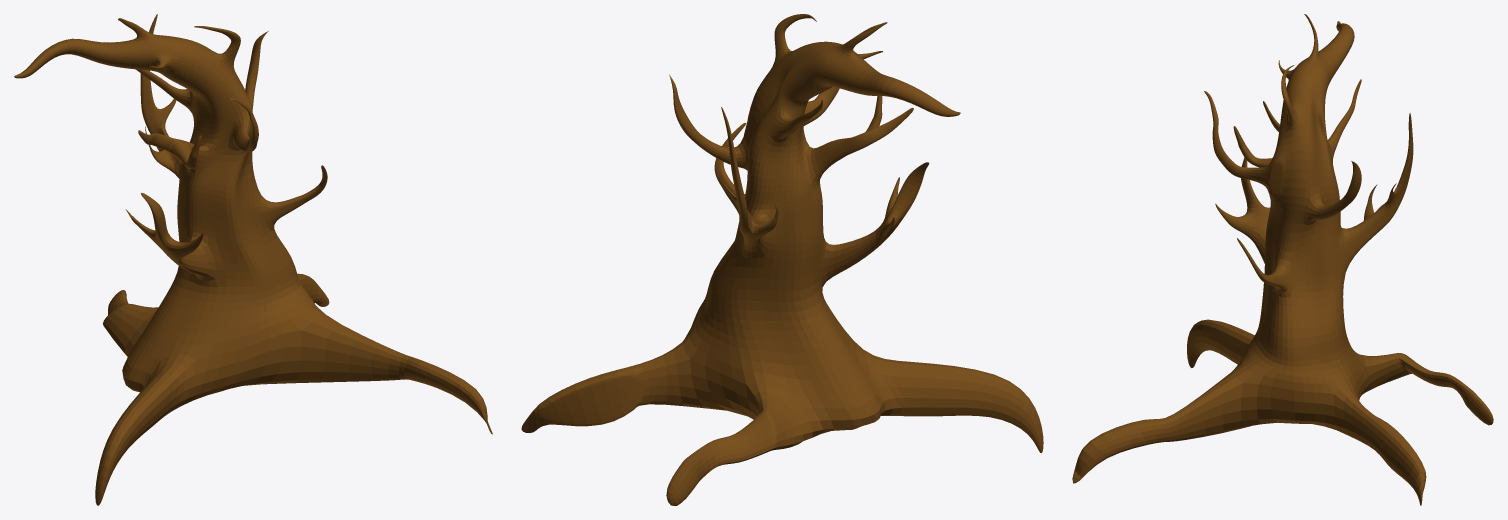
Rendered from Copac.fbx.
3 renders of one model, left to right at view 1: azimuth 30°, elevation 25°; view 2: azimuth 150°, elevation 25°; view 3: azimuth 270°, elevation 25°, orthographic. The views are drawn at different scales.
Parts seen in each view (by area): view 1: Cylinder; view 2: Cylinder; view 3: Cylinder.
Part boxes in pixels (<box>): Cylinder: <box>14,14,492,505</box>; Cylinder: <box>521,14,1043,505</box>; Cylinder: <box>1072,14,1493,505</box>.
Bounding box in the file's own units: 580 × 650 × 634.
